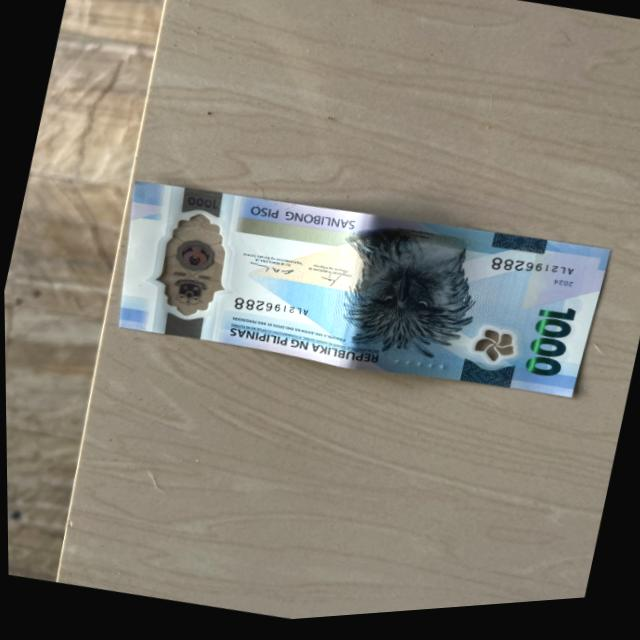clear_window: (139, 199, 240, 331)
eagle: (324, 221, 488, 376)
sampaguita: (465, 328, 521, 375)
